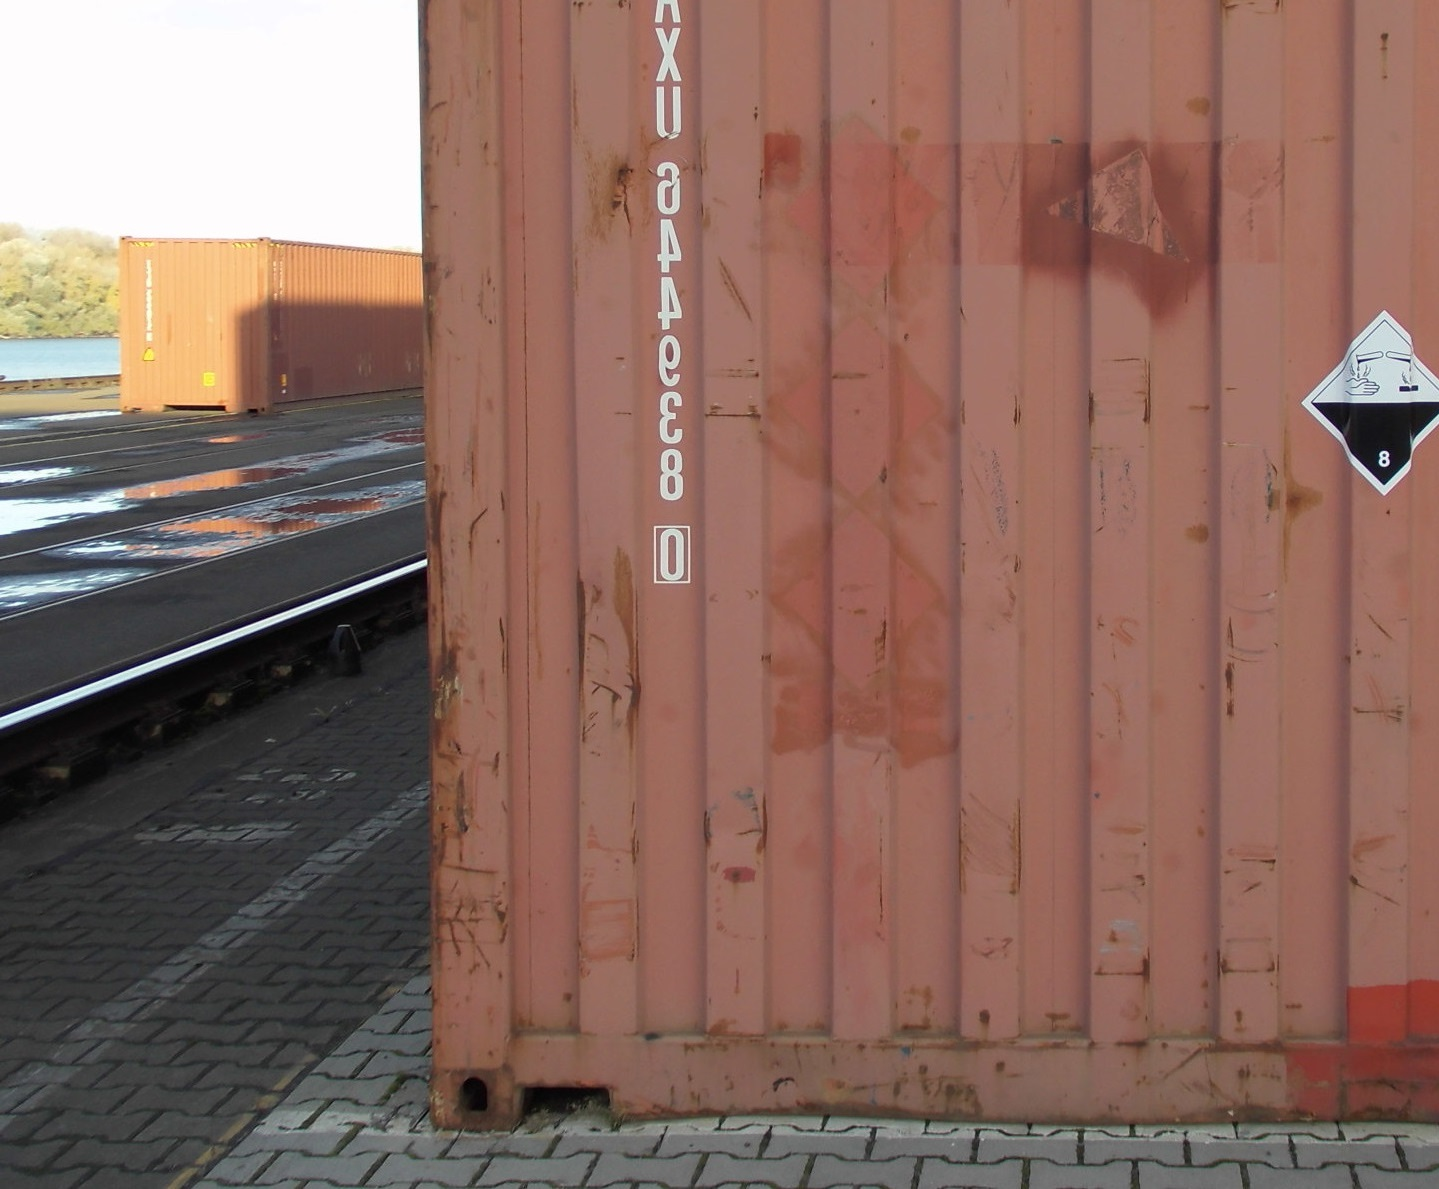container_no_door: (431, 1, 1439, 1130), (116, 233, 259, 407)
